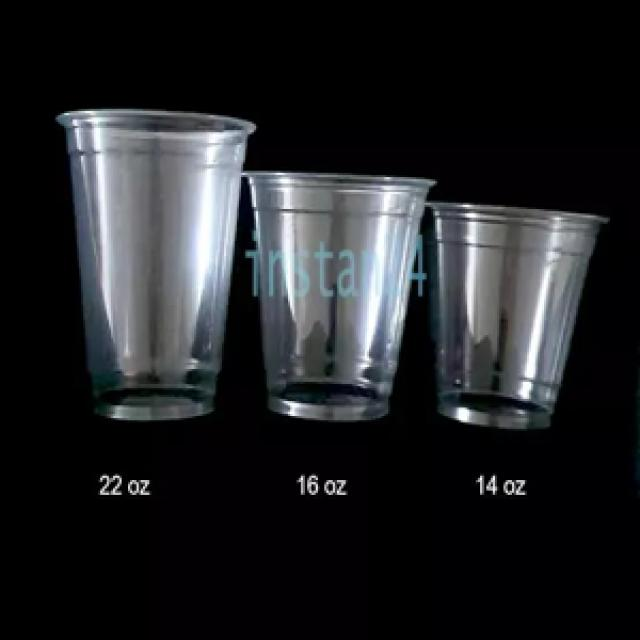plastic cup: (49, 98, 256, 435), (237, 162, 437, 442), (416, 188, 612, 448)
